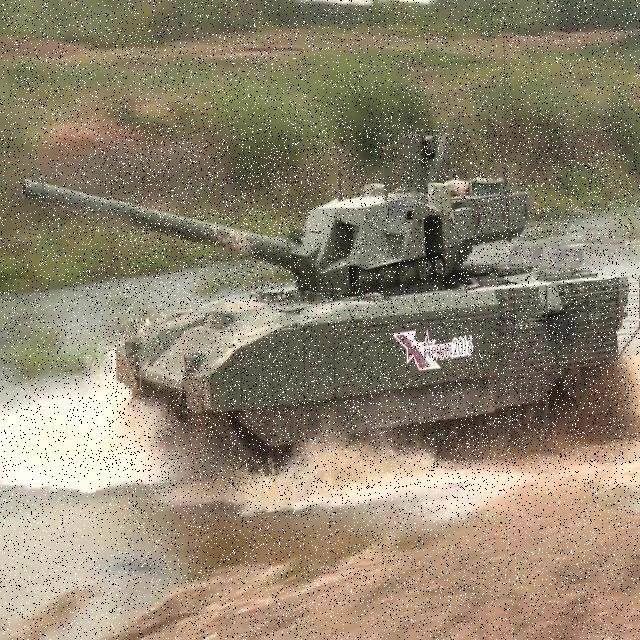MIL_MBT: (109, 126, 629, 491)
